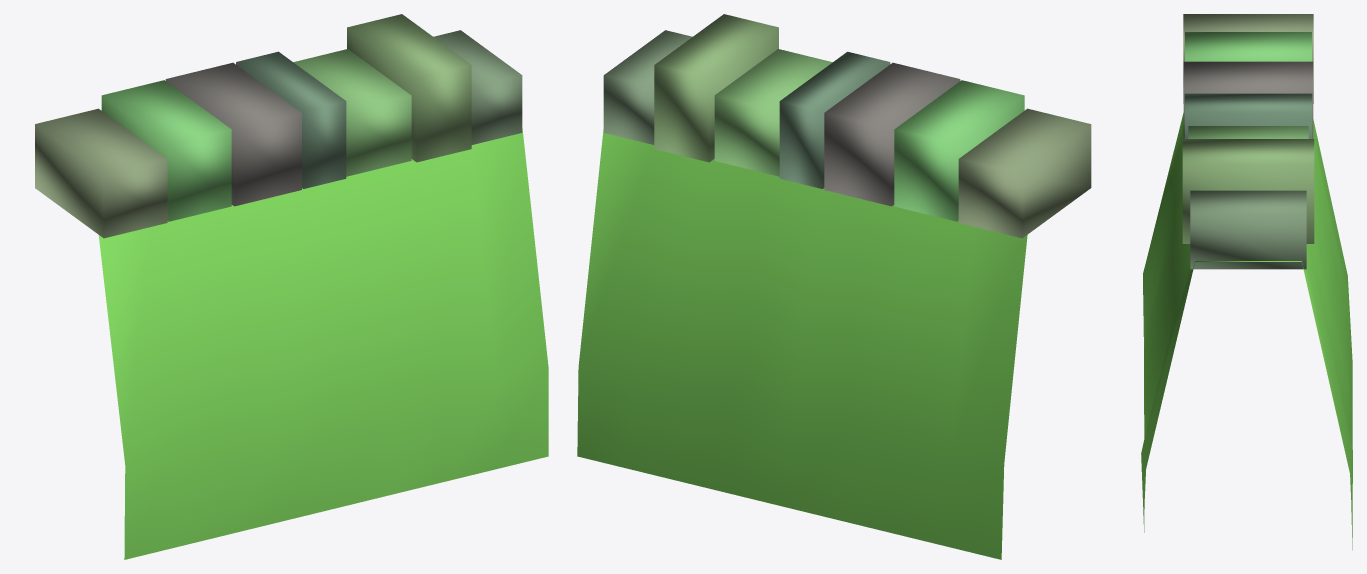
The model's file is SM_WallFar.glb.
3 views of the same model, side by side, from view 1: azimuth 30°, elevation 25°; view 2: azimuth 150°, elevation 25°; view 3: azimuth 270°, elevation 25° (orthographic). The views are drawn at different scales.
Visible parts, largest first — view 1: SM_WallFar; view 2: SM_WallFar; view 3: SM_WallFar.
Boxes of the visible parts, x1=… form: SM_WallFar: x1=35, y1=14, x2=548, y2=559; SM_WallFar: x1=577, y1=14, x2=1091, y2=559; SM_WallFar: x1=1141, y1=14, x2=1352, y2=550.
Bounding box in the file's own units: 2 × 1.76 × 0.9141.
